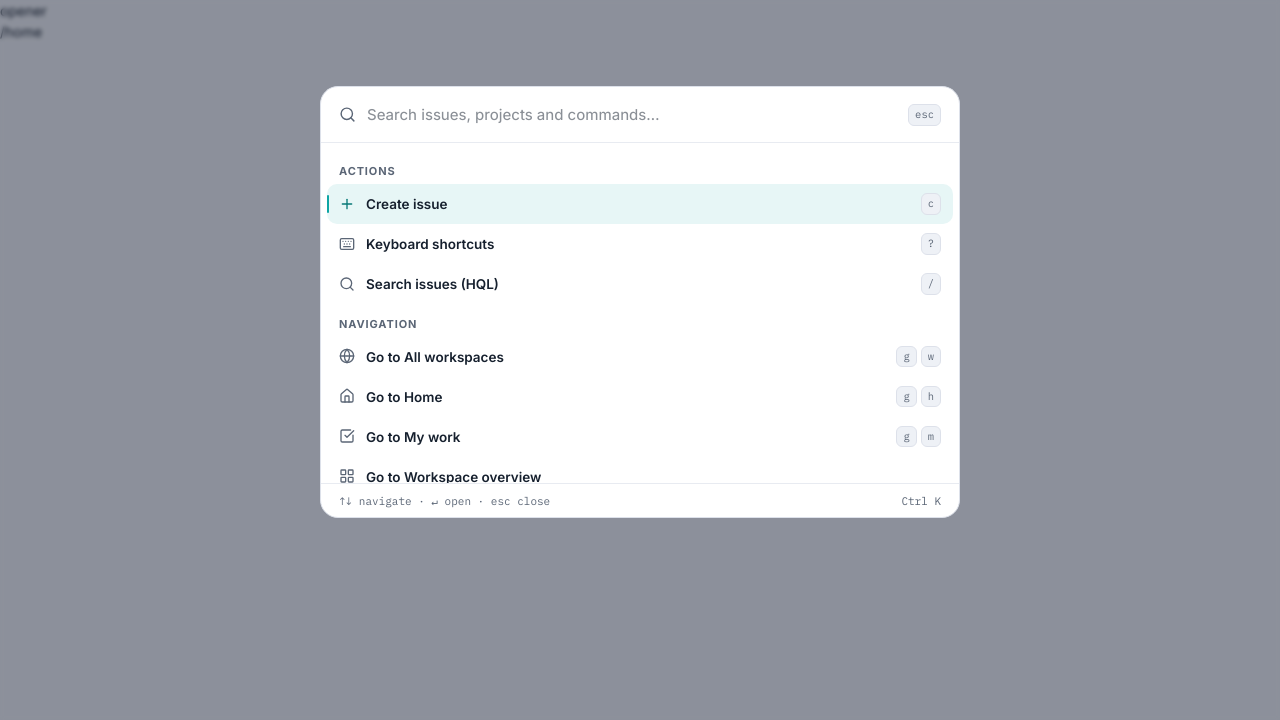
Test: CommandPalette — keyboard › Enter on a navigation row navigates and closes the palette
This screenshot has width=1280, height=720.
Check: the text "Go to My work" is shown, box [366,429,460,445]
Type "my work" into the dropdown with placeholder "Search issues, projects and commands…" at (632, 115), box [367,104,897,126]
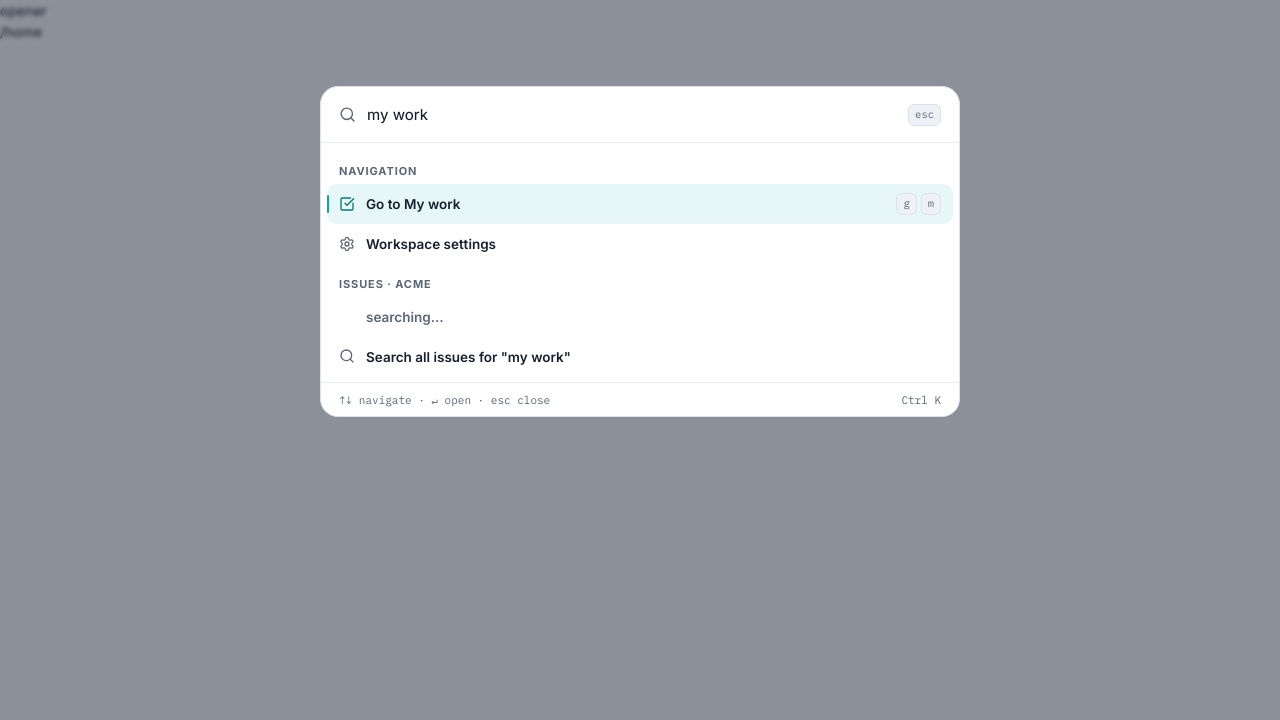
Check: the option "Go to My work g m" is shown, box [327,184,953,224]
Press Enter
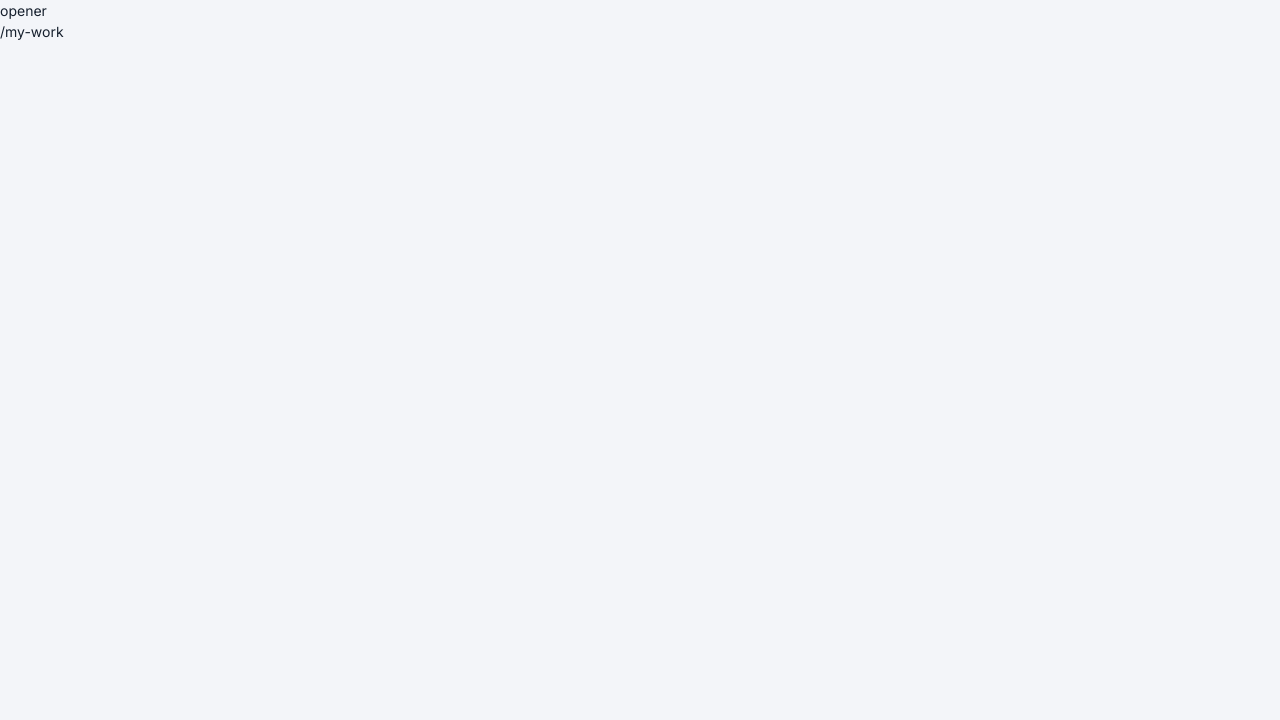
Check: the text with test id "path" reads "/my-work", box [0,23,64,40]
